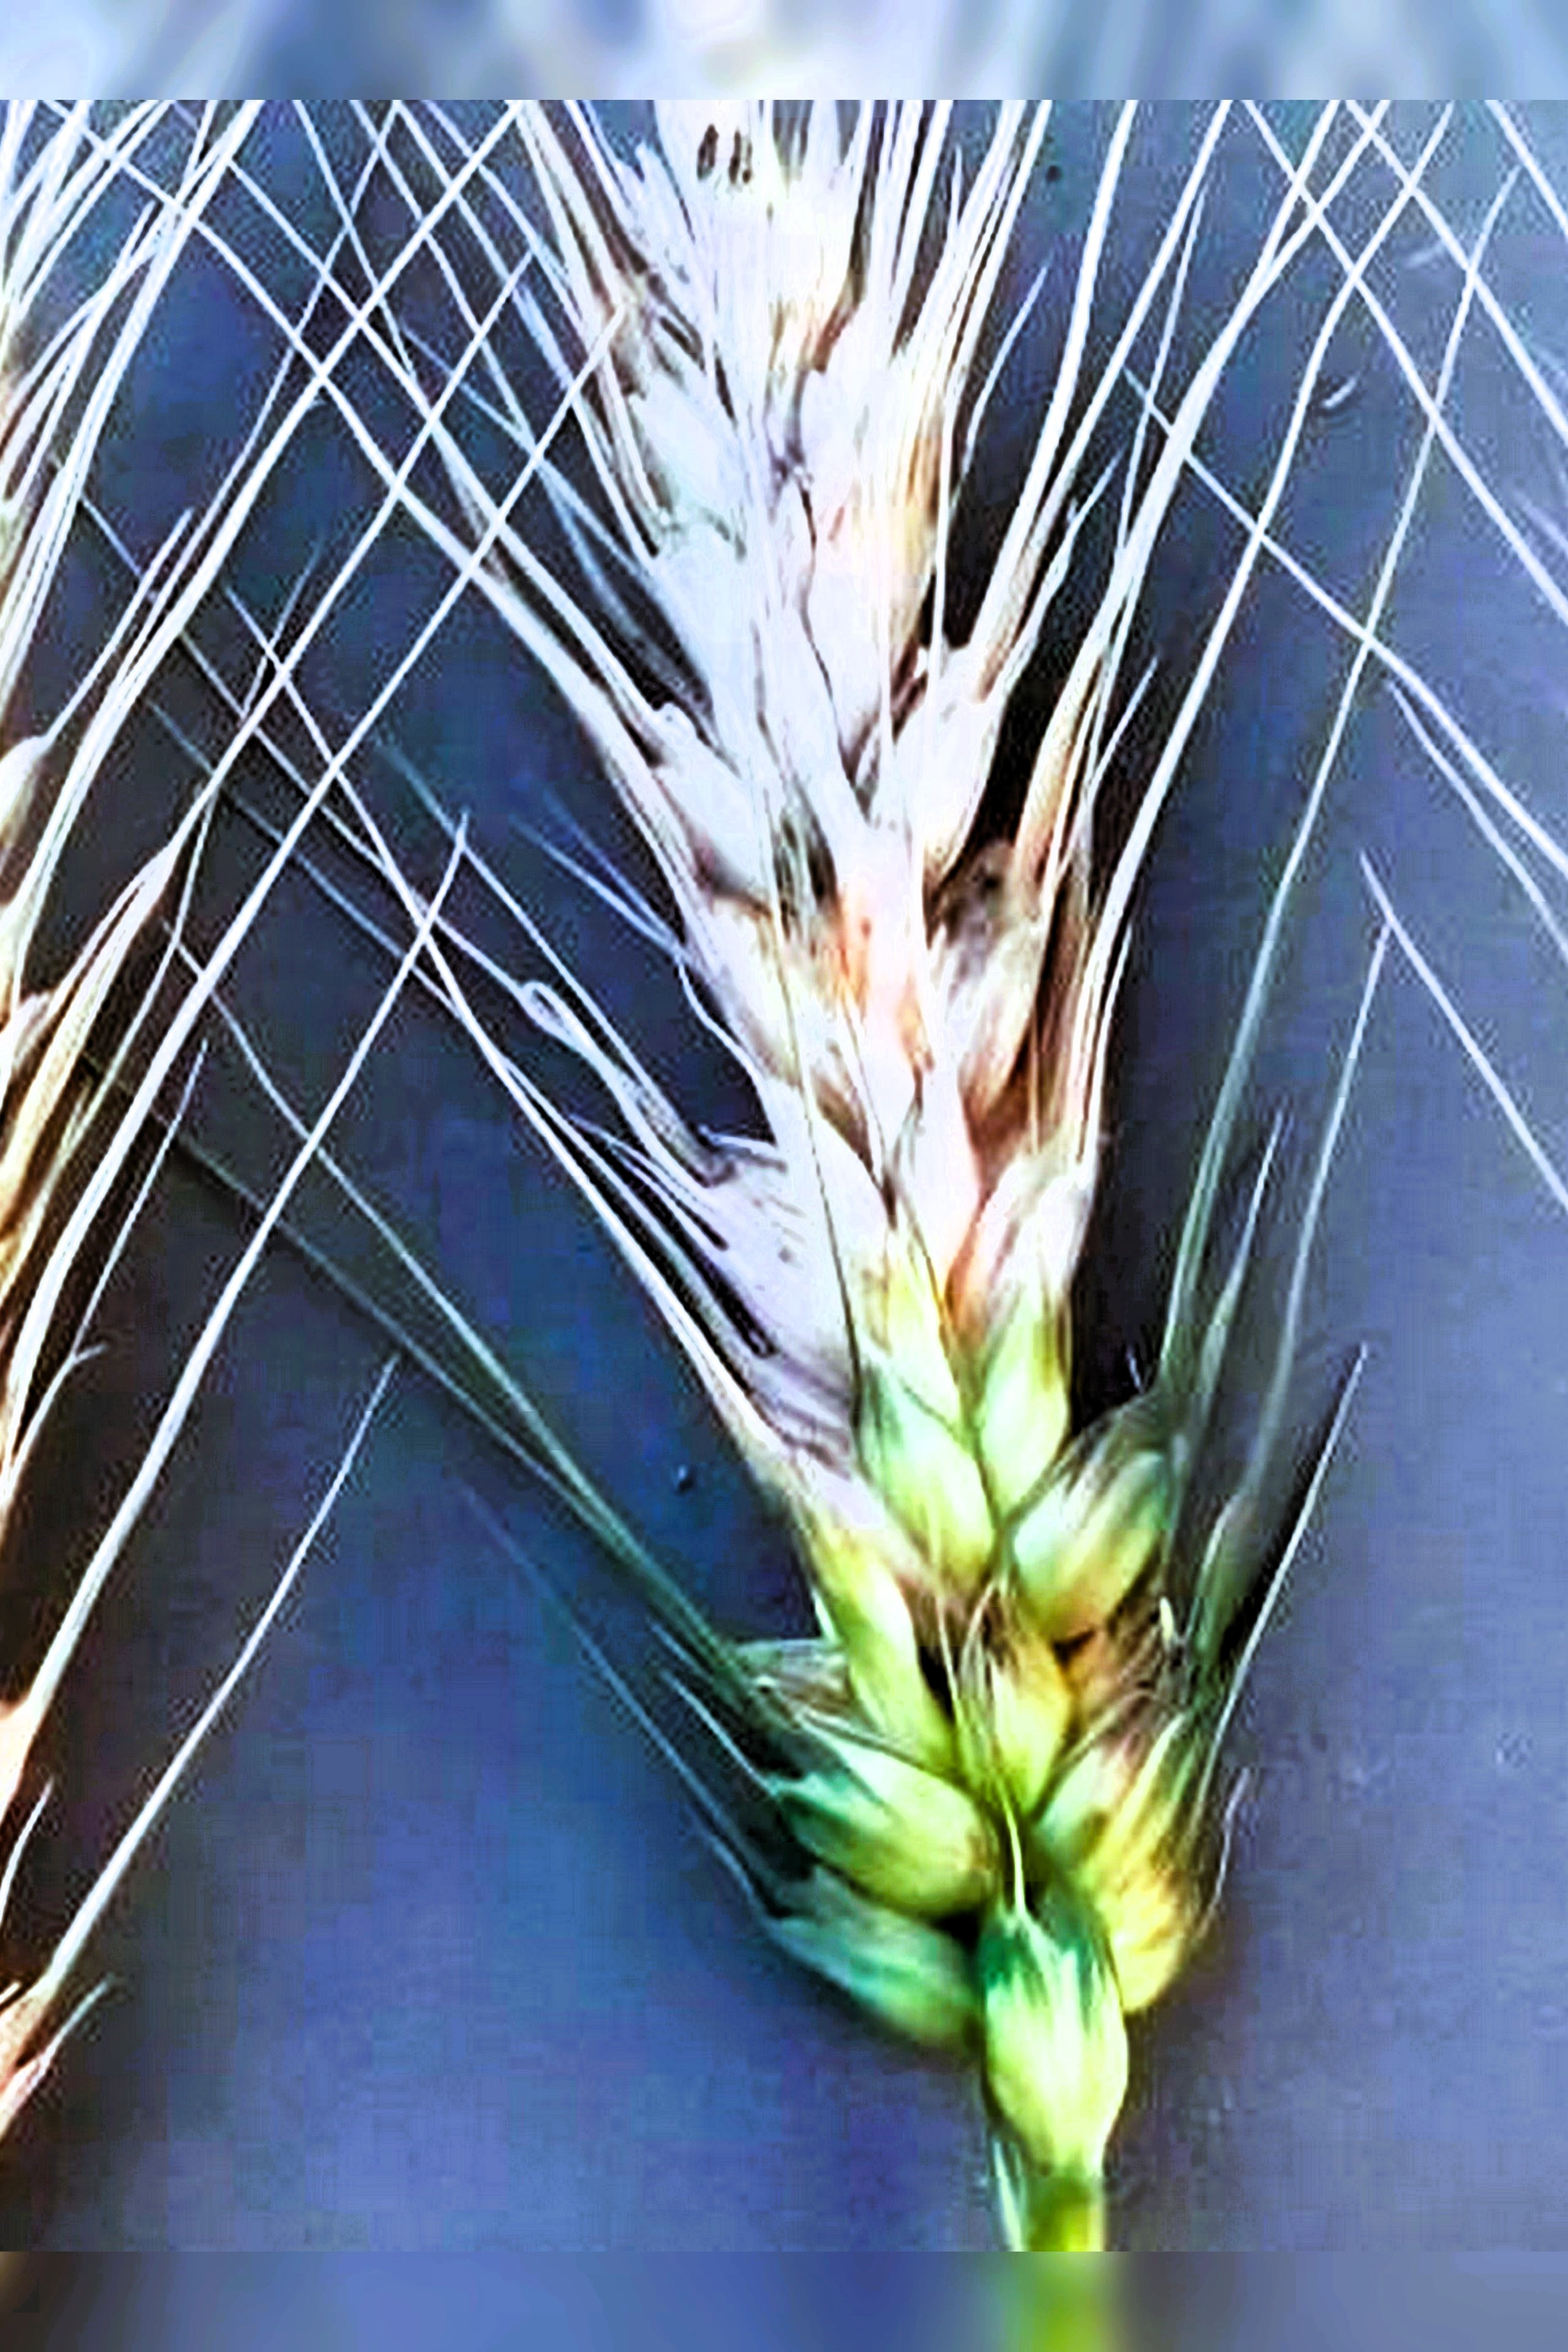Wheat scab: (546, 140, 1265, 2074)
